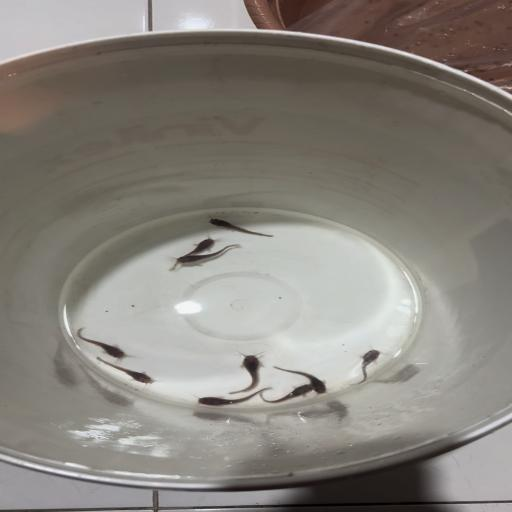lele: (65, 326, 136, 358), (223, 349, 267, 398), (163, 234, 216, 274), (88, 359, 158, 389), (179, 386, 275, 407), (271, 364, 332, 397), (205, 215, 279, 239), (178, 243, 247, 268), (344, 346, 386, 387), (258, 382, 314, 408)
